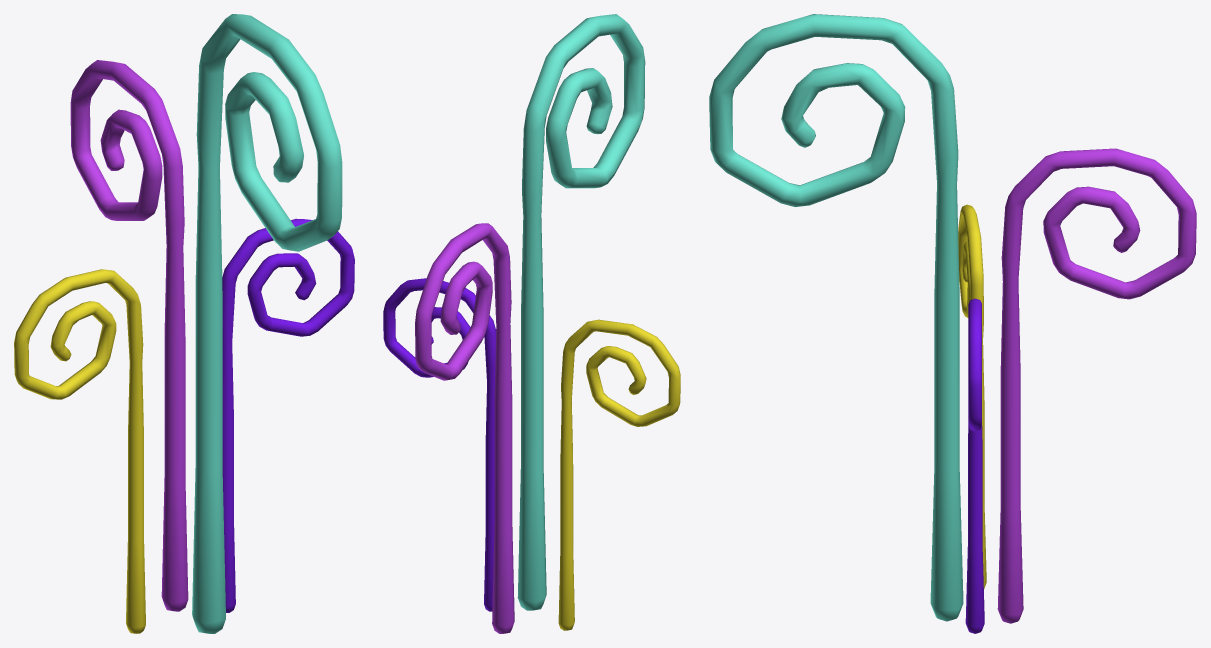
Rendered from Deko_koralle1.gltf.
3 renders of one model, left to right at view 1: azimuth 30°, elevation 25°; view 2: azimuth 150°, elevation 25°; view 3: azimuth 270°, elevation 25°, orthographic. The views are drawn at different scales.
Parts seen in each view (by area): view 1: Vert.023; view 2: Vert.023; view 3: Vert.023.
Boxes of the visible parts, box(x1,y1,x2,y2) form: Vert.023: box(14, 14, 354, 633); Vert.023: box(383, 14, 680, 633); Vert.023: box(709, 14, 1196, 633).
Size of the model in its own units: 1.1 by 1.99 by 1.45.
